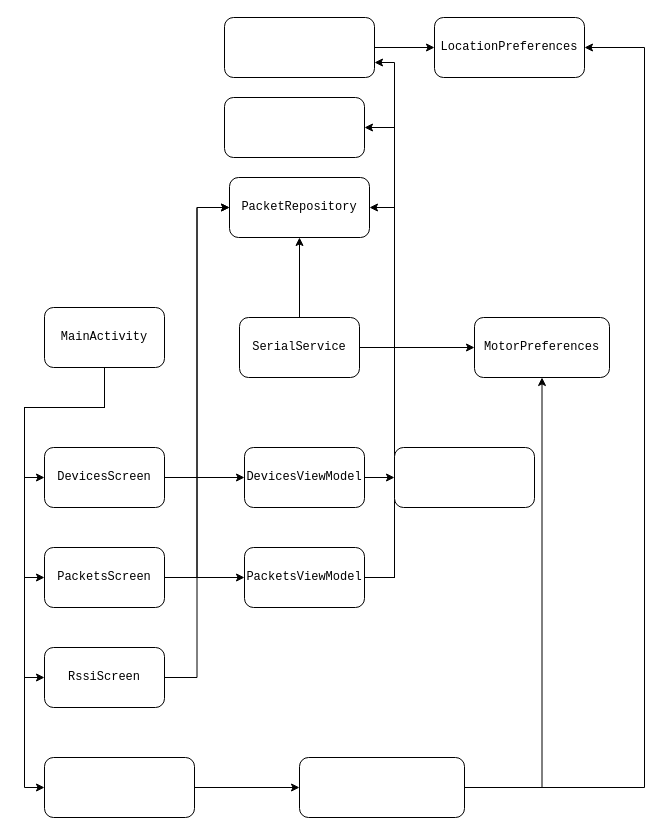
Some shapes in this 670 by 835 pixel diagram are drawn without their labels. The shapes that lost their labels are listed below. From the top down, each one's centre as x and y in pixels, then its label:
At [299,47]: "LocationRepository".
At [294,127]: "HeadingRepository".
At [464,477]: "UsbConnectionState".
At [119,787]: "ConfigurationScreen".
At [381,787]: "ConfigurationViewModel".
